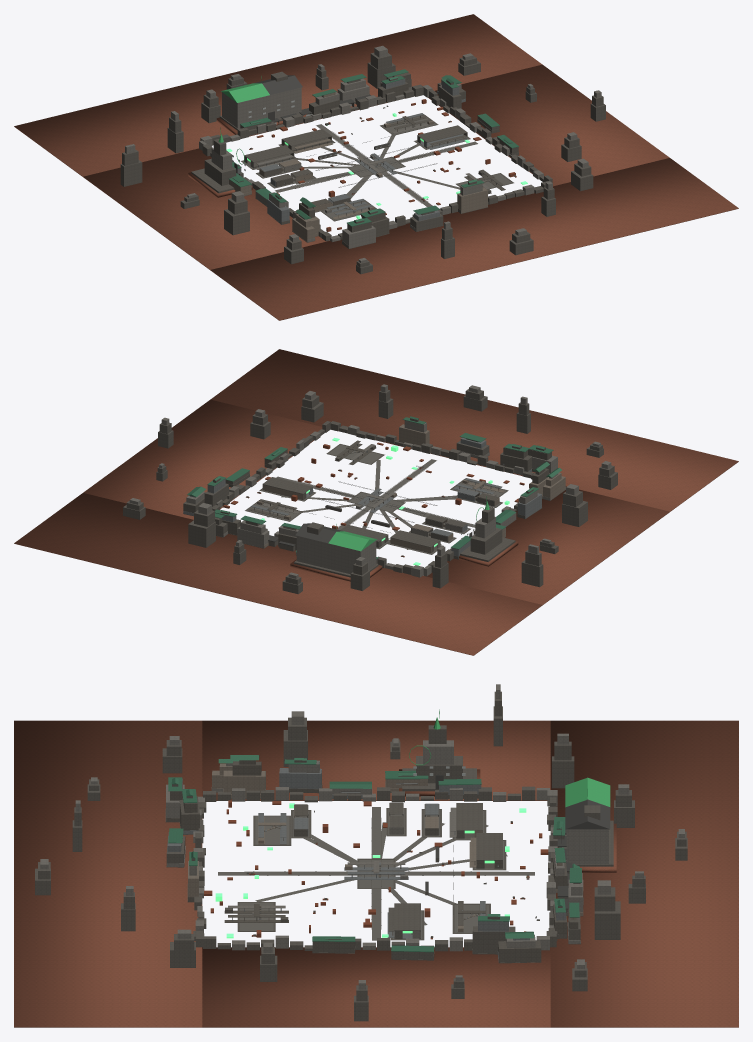
File: haieki-lod1.glb
3 renders of one model, top to bottom at view 1: azimuth 30°, elevation 25°; view 2: azimuth 150°, elevation 25°; view 3: azimuth 270°, elevation 25°, orthographic. The views are drawn at different scales.
Visible parts, largest first — view 1: HB_haieki_LOD1_terrain, HB_haieki_LOD1_wall_alt, HB_haieki_LOD1_wall, HB_haieki_LOD1_road, HB_haieki_LOD1_wall_weathered, HB_haieki_LOD1_wall_warm, HB_haieki_LOD1_wall_cool, HB_haieki_LOD1_roof, HB_haieki_LOD1_LANDMARK_0_wall, HB_haieki_LOD1_LANDMARK_1_wall_alt, HB_haieki_LOD1_obstacle, HB_haieki_LOD1_trim (+2 smaller); view 2: HB_haieki_LOD1_terrain, HB_haieki_LOD1_wall_alt, HB_haieki_LOD1_wall, HB_haieki_LOD1_road, HB_haieki_LOD1_wall_weathered, HB_haieki_LOD1_wall_warm, HB_haieki_LOD1_wall_cool, HB_haieki_LOD1_roof, HB_haieki_LOD1_LANDMARK_0_wall, HB_haieki_LOD1_LANDMARK_1_wall_alt, HB_haieki_LOD1_obstacle, HB_haieki_LOD1_trim (+1 smaller); view 3: HB_haieki_LOD1_terrain, HB_haieki_LOD1_wall_alt, HB_haieki_LOD1_wall, HB_haieki_LOD1_road, HB_haieki_LOD1_wall_weathered, HB_haieki_LOD1_roof, HB_haieki_LOD1_wall_cool, HB_haieki_LOD1_wall_warm, HB_haieki_LOD1_LANDMARK_1_wall_alt, HB_haieki_LOD1_LANDMARK_0_wall, HB_haieki_LOD1_obstacle, HB_haieki_LOD1_LANDMARK_0_trim (+4 smaller).
Boxes of the visible parts, x1,y1,x2,y2 form: HB_haieki_LOD1_terrain: (14, 14, 738, 320); HB_haieki_LOD1_wall_alt: (120, 52, 605, 274); HB_haieki_LOD1_wall: (125, 45, 601, 262); HB_haieki_LOD1_road: (242, 115, 512, 221); HB_haieki_LOD1_wall_weathered: (244, 72, 518, 248); HB_haieki_LOD1_wall_warm: (229, 73, 490, 242); HB_haieki_LOD1_wall_cool: (237, 78, 501, 224); HB_haieki_LOD1_roof: (229, 69, 518, 226); HB_haieki_LOD1_LANDMARK_0_wall: (222, 87, 301, 128); HB_haieki_LOD1_LANDMARK_1_wall_alt: (191, 138, 236, 193); HB_haieki_LOD1_obstacle: (249, 99, 516, 231); HB_haieki_LOD1_trim: (250, 94, 515, 202); HB_haieki_LOD1_terrain: (14, 349, 738, 655); HB_haieki_LOD1_wall_alt: (123, 389, 617, 594); HB_haieki_LOD1_wall: (129, 384, 611, 578); HB_haieki_LOD1_road: (247, 444, 508, 554); HB_haieki_LOD1_wall_weathered: (183, 441, 551, 559); HB_haieki_LOD1_wall_warm: (215, 424, 565, 553); HB_haieki_LOD1_wall_cool: (183, 437, 541, 558); HB_haieki_LOD1_roof: (187, 416, 561, 559); HB_haieki_LOD1_LANDMARK_0_wall: (296, 536, 376, 574); HB_haieki_LOD1_LANDMARK_1_wall_alt: (460, 506, 515, 561); HB_haieki_LOD1_obstacle: (223, 442, 529, 557); HB_haieki_LOD1_trim: (246, 457, 537, 557); HB_haieki_LOD1_terrain: (14, 720, 738, 1027); HB_haieki_LOD1_wall_alt: (35, 691, 687, 1021); HB_haieki_LOD1_wall: (40, 684, 684, 989); HB_haieki_LOD1_road: (218, 807, 534, 940); HB_haieki_LOD1_wall_weathered: (166, 760, 578, 962); HB_haieki_LOD1_roof: (168, 755, 581, 952); HB_haieki_LOD1_wall_cool: (167, 768, 565, 962); HB_haieki_LOD1_wall_warm: (188, 763, 582, 953); HB_haieki_LOD1_LANDMARK_1_wall_alt: (402, 725, 476, 791); HB_haieki_LOD1_LANDMARK_0_wall: (566, 829, 608, 863); HB_haieki_LOD1_obstacle: (204, 800, 548, 939); HB_haieki_LOD1_LANDMARK_0_trim: (561, 799, 610, 843).
Size of the model in its own units: 654 by 76.48 by 654.
Materials: 13 (11 with a texture image).
